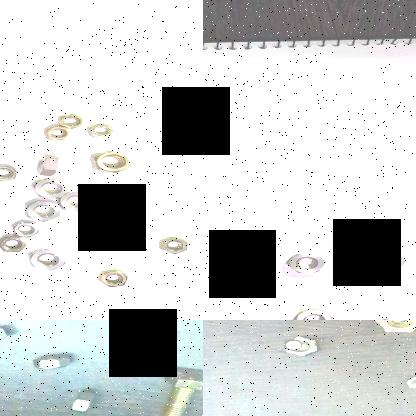Bolts: (139, 365, 203, 416), (275, 332, 325, 358), (394, 372, 416, 396)
NUTS: (58, 386, 102, 416), (364, 244, 406, 274), (21, 350, 76, 372), (86, 150, 132, 176), (133, 328, 181, 352), (23, 248, 67, 274), (15, 198, 59, 224), (56, 188, 98, 214), (23, 176, 68, 200), (282, 250, 326, 274), (31, 150, 60, 177), (54, 110, 86, 131), (7, 220, 42, 239), (96, 268, 128, 288), (0, 233, 28, 255), (290, 306, 334, 320), (84, 122, 116, 140), (158, 236, 188, 255), (40, 126, 74, 142), (0, 164, 19, 182), (0, 321, 12, 349)
